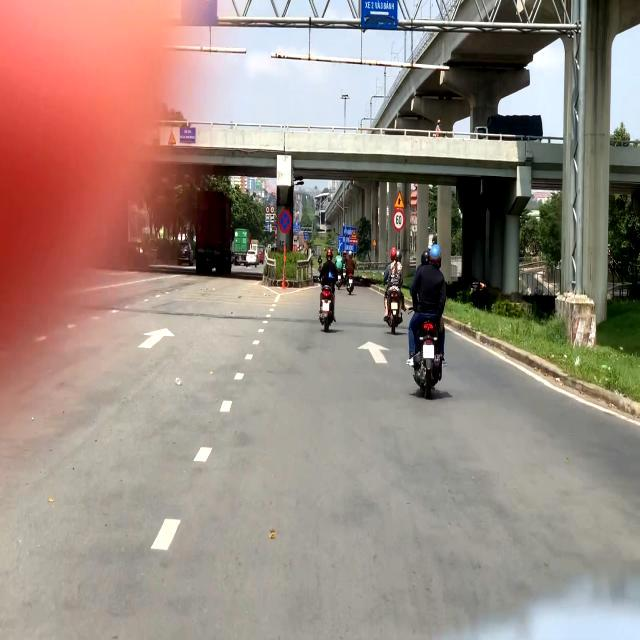Cam dung xe va do xe: (278, 208, 293, 234)
Giao nhau voi duong khong uu tien ben phai: (393, 189, 406, 210)
Toc do toi da cho phep: (393, 209, 405, 231)
